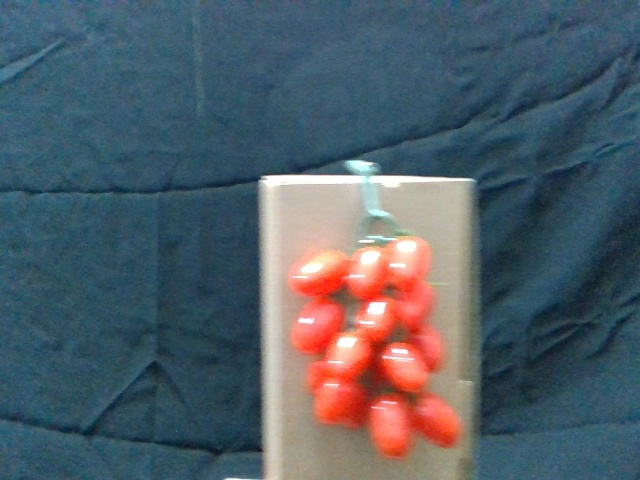tomato: (287, 300, 346, 358), (368, 396, 415, 459), (413, 393, 464, 448), (378, 341, 428, 394), (293, 251, 349, 298), (327, 332, 378, 381), (348, 248, 391, 300), (316, 380, 362, 428), (409, 321, 452, 370), (392, 236, 433, 287), (356, 297, 399, 343), (397, 285, 434, 329)
